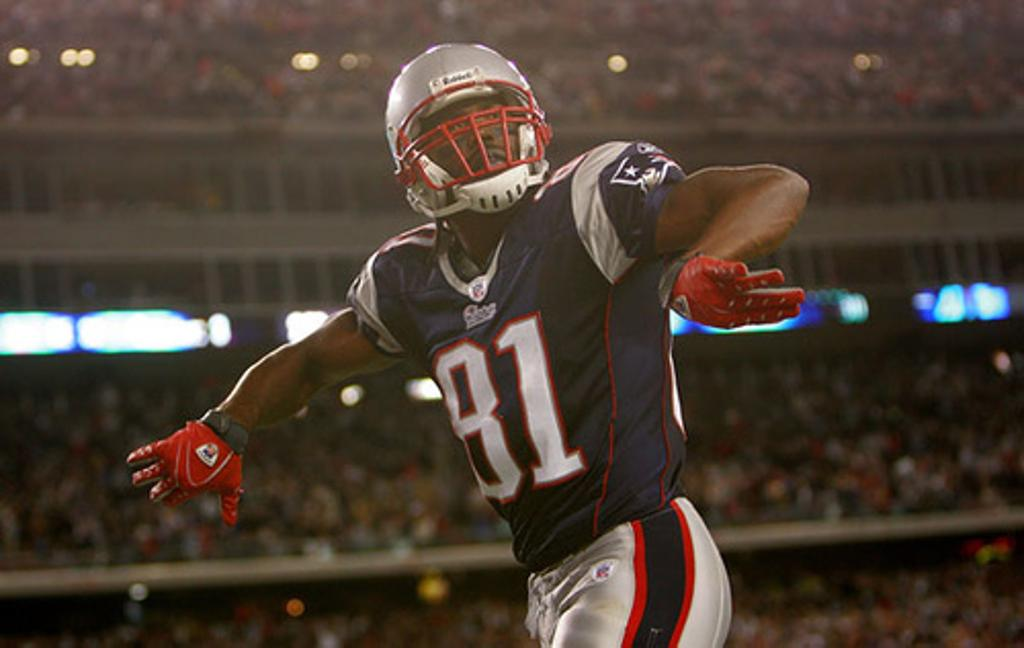face: (420, 94, 528, 206)
